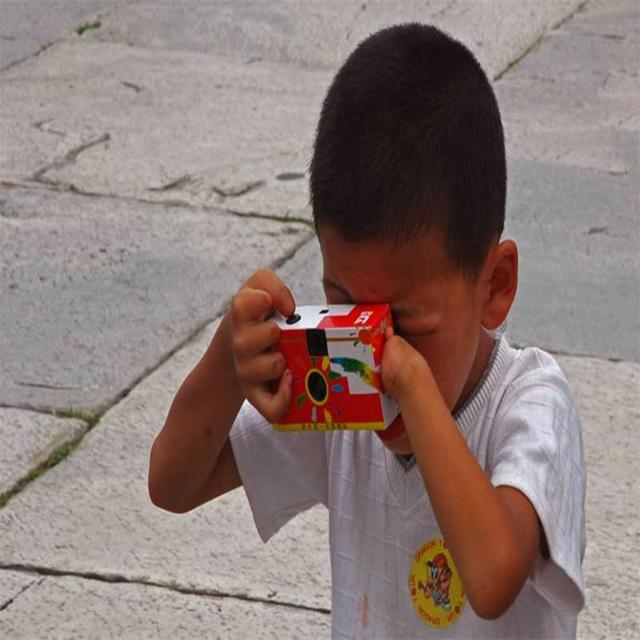nomask: (316, 172, 472, 460)
